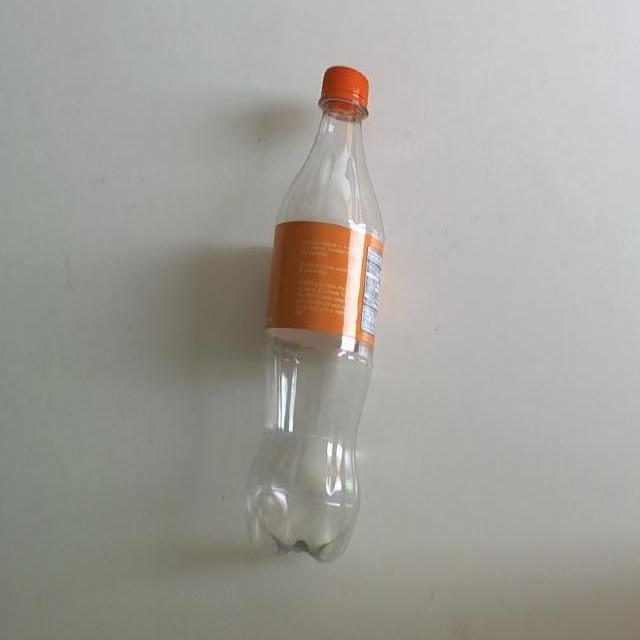non-defect: (242, 64, 386, 564)
